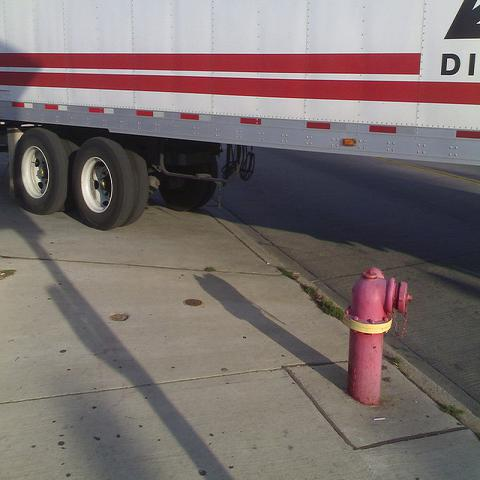truck: (0, 4, 479, 226)
